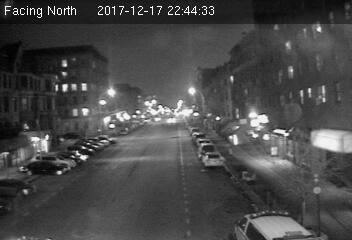car: (201, 151, 221, 167)
police: (227, 205, 314, 240)
